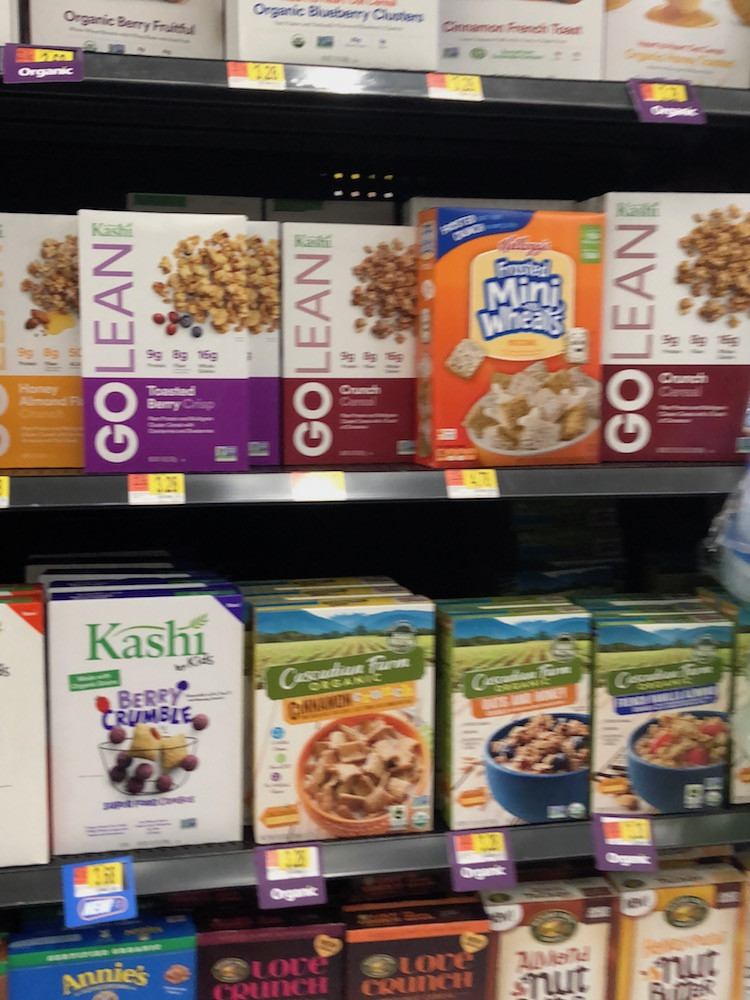Frosted Mini Original -9295869: (416, 206, 597, 466)
